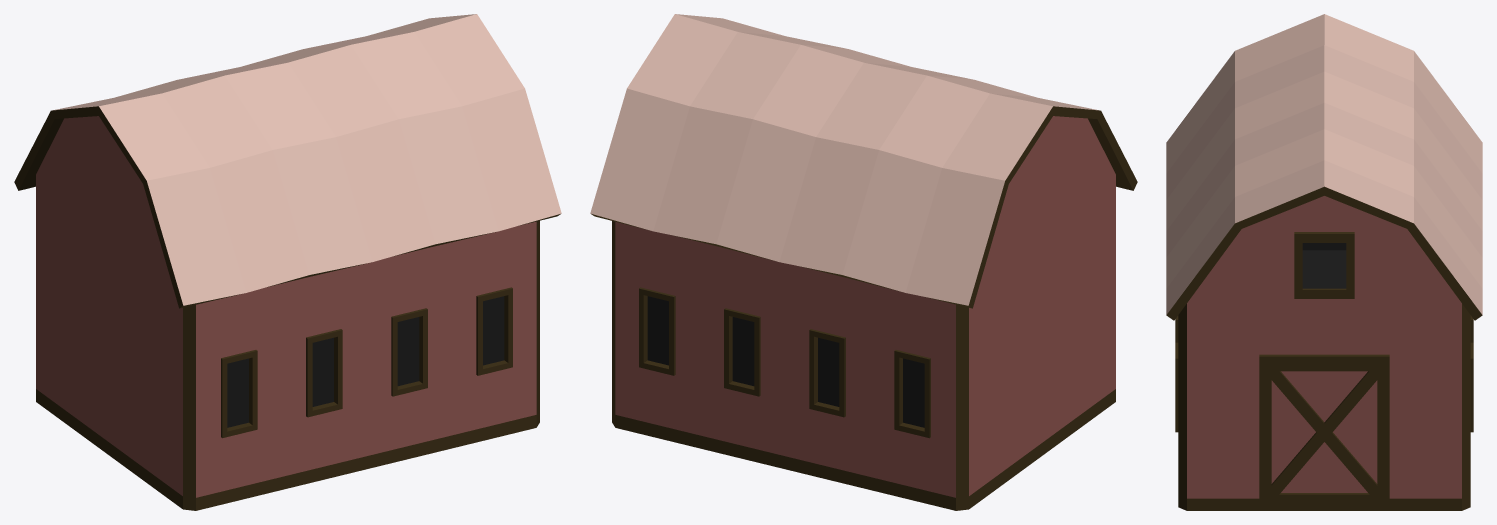
Rendered from Barn_01.obj.
3 views of the same model, side by side, from view 1: azimuth 30°, elevation 25°; view 2: azimuth 150°, elevation 25°; view 3: azimuth 270°, elevation 25° (orthographic). The views are drawn at different scales.
Visible parts, largest first — view 1: Barn_Cube.029; view 2: Barn_Cube.029; view 3: Barn_Cube.029.
Part boxes in pixels (x1,y1,x2,y2): Barn_Cube.029: (14,14,561,510); Barn_Cube.029: (590,14,1137,510); Barn_Cube.029: (1166,14,1482,510).
Size of the model in its own units: 11.2 by 9.95 by 8.67.
